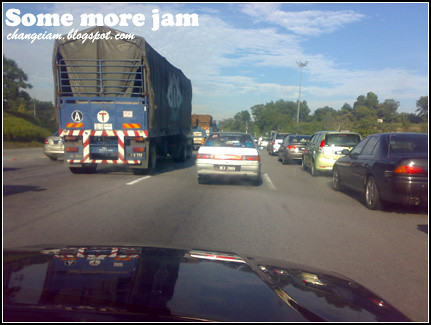car: (335, 128, 431, 219), (193, 129, 257, 183), (305, 128, 356, 178), (279, 134, 317, 165)
sky: (178, 1, 431, 112)
street: (1, 143, 393, 325)
truck: (61, 29, 200, 180)
